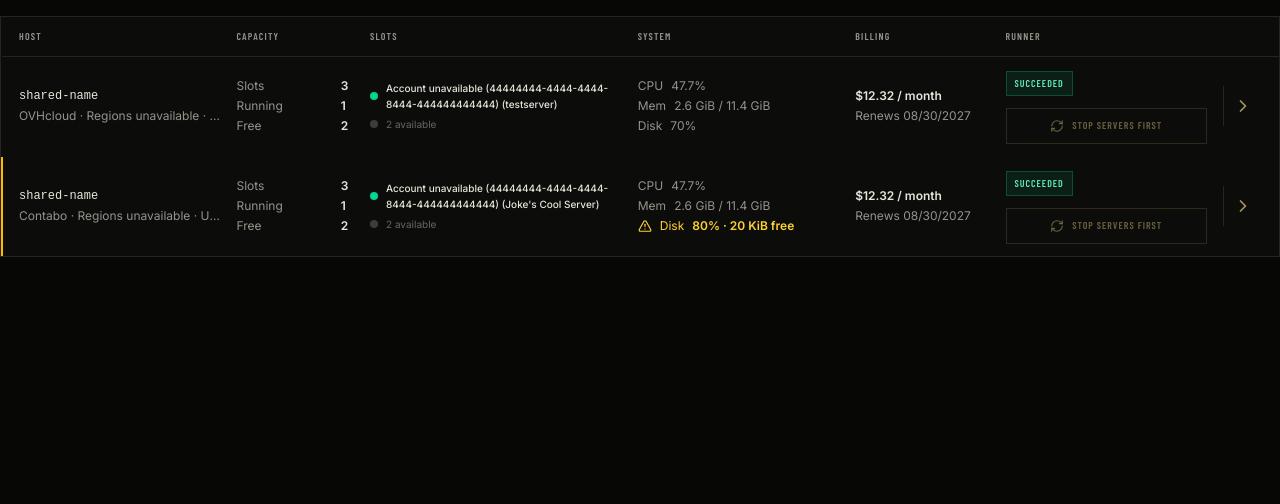
Test: compact VPS host inventory › keeps same-named hosts of different providers as separate rows that expand independently
The width and height of the screenshot is (1280, 504).
Click the button named "Expand details for shared-name" in the row of "80": coordinates (1243, 206) [1223,186,1263,226]
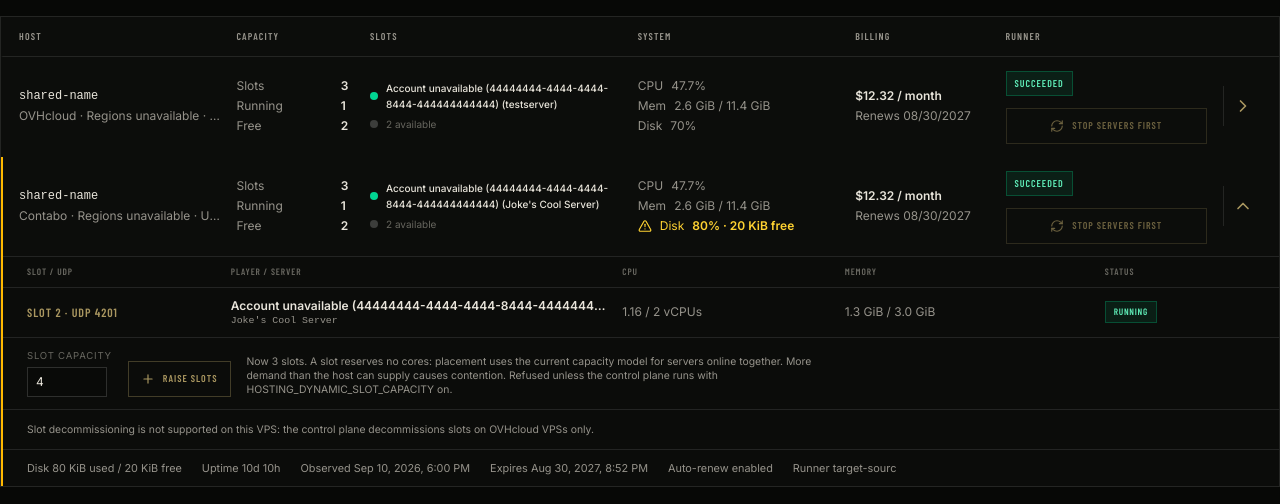
Expected: the text "Slot 2 · UDP 4201" is shown, [27,305,118,319]
